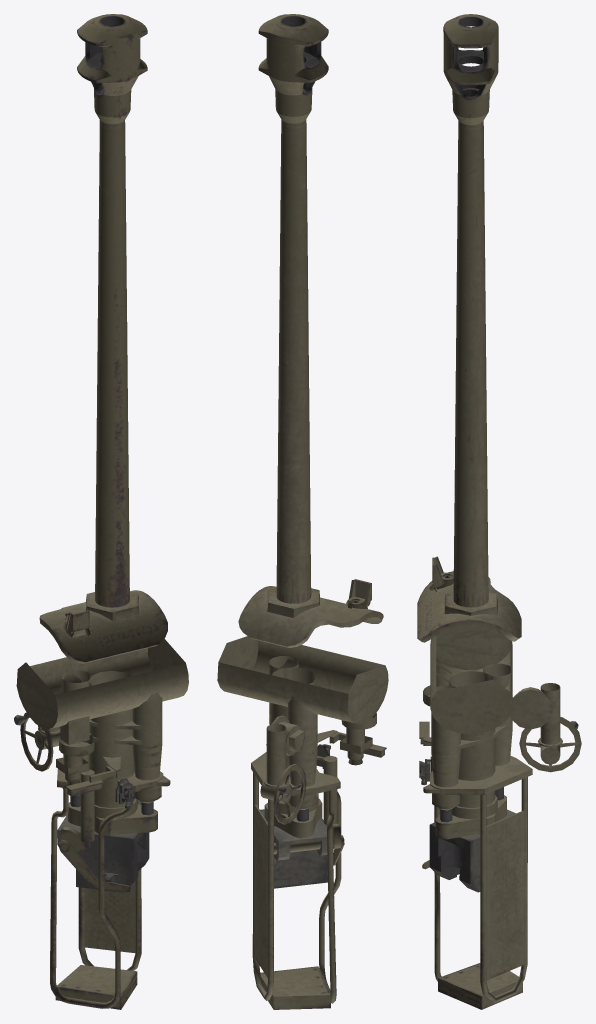
File: Gun_03.glb
3 renders of one model, left to right at view 1: azimuth 30°, elevation 25°; view 2: azimuth 150°, elevation 25°; view 3: azimuth 270°, elevation 25°, orthographic.
Parts seen in each view (by area): view 1: set_0_group_0; view 2: set_0_group_0; view 3: set_0_group_0.
Part boxes in pixels (<box>): set_0_group_0: <box>14,14,188,1009</box>; set_0_group_0: <box>217,14,388,1009</box>; set_0_group_0: <box>417,14,581,1009</box>.
Size of the model in its own units: 0.669 by 4.76 by 0.7274.
1 material, 1 textured.
